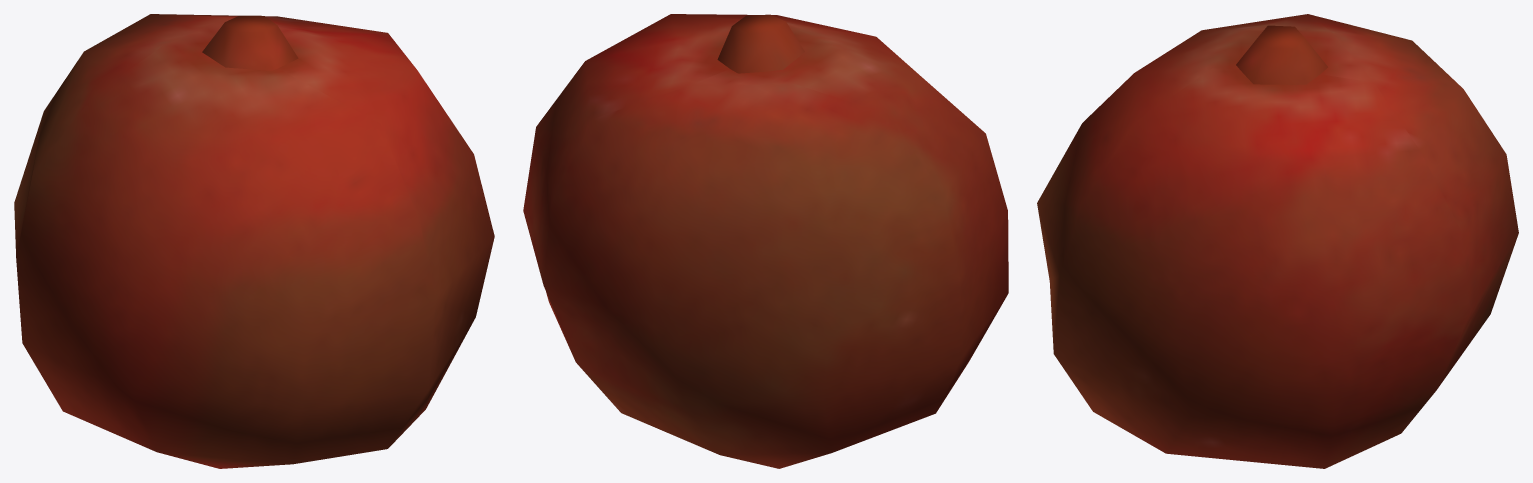
File: SM_SP_FruitsPome02.fbx
The picture shows the model from 3 angles, left to right: view 1: azimuth 30°, elevation 25°; view 2: azimuth 150°, elevation 25°; view 3: azimuth 270°, elevation 25°; orthographic projection. The views are drawn at different scales.
Visible parts, largest first — view 1: SM_SP_FruitsPome02_LOD0; view 2: SM_SP_FruitsPome02_LOD0; view 3: SM_SP_FruitsPome02_LOD0.
Boxes of the visible parts, box(x1,y1,x2,y2) form: SM_SP_FruitsPome02_LOD0: box(14, 14, 494, 468); SM_SP_FruitsPome02_LOD0: box(523, 14, 1008, 468); SM_SP_FruitsPome02_LOD0: box(1037, 14, 1518, 468).
Bounding box in the file's own units: 12.82 × 12.69 × 11.63.
Materials: 1 (1 with a texture image).
